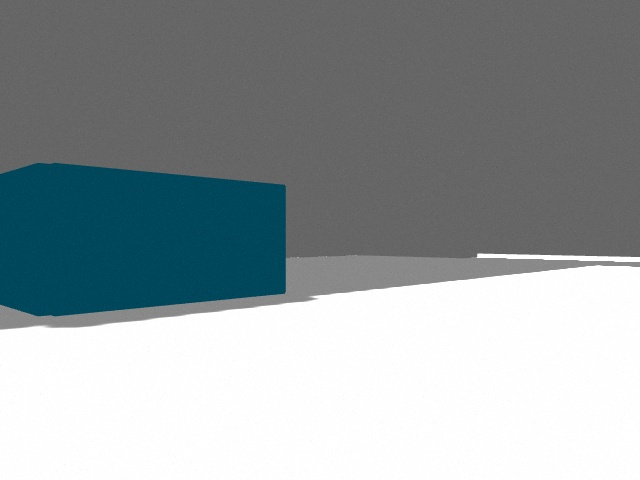blue_drop_zone: (0, 163, 286, 316)
